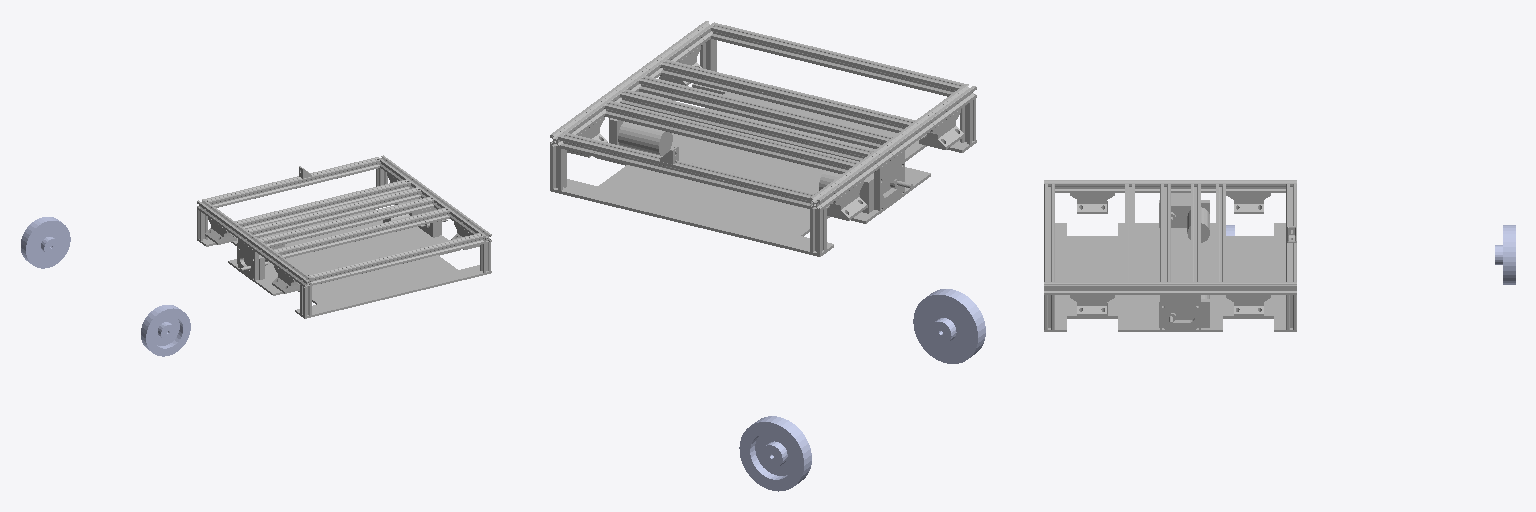
The robot description file, URDF, robot "DiffDrive":
<?xml version="1.0" encoding="utf-8"?>
<!-- This URDF was automatically created by SolidWorks to URDF Exporter! Originally created by [author] ([email redacted]) 
     Commit Version: 1.6.0-4-g7f85cfe  Build Version: 1.6.7995.38578
     For more information, please see http://wiki.ros.org/sw_urdf_exporter -->
<robot
  name="DiffDrive">
  <link
    name="base_link">
    <inertial>
      <origin
        xyz="-0.00843797932248264 7.91524717263514E-05 0.0510944704707574"
        rpy="0 0 0" />
      <mass
        value="4.20115624935193" />
      <inertia
        ixx="0.0441950216113175"
        ixy="-6.1273841754346E-08"
        ixz="1.5363609769836E-06"
        iyy="0.0338853571996096"
        iyz="2.75308042467669E-07"
        izz="0.077237000418039" />
    </inertial>
    <visual>
      <origin
        xyz="0 0 0"
        rpy="0 0 0" />
      <geometry>
        <mesh
          filename="package://DiffDrive/meshes/base_link.STL" />
      </geometry>
      <material
        name="">
        <color
          rgba="0.752941176470588 0.752941176470588 0.752941176470588 1" />
      </material>
    </visual>
    <collision>
      <origin
        xyz="0 0 0"
        rpy="0 0 0" />
      <geometry>
        <mesh
          filename="package://DiffDrive/meshes/base_link.STL" />
      </geometry>
    </collision>
  </link>
  <link
    name="Wheel_left">
    <inertial>
      <origin
        xyz="0 0.0257257525083612 -2.77555756156289E-17"
        rpy="0 0 0" />
      <mass
        value="0.240470068076377" />
      <inertia
        ixx="0.000245137261047142"
        ixy="5.12745004835681E-20"
        ixz="0"
        iyy="0.000452624182450971"
        iyz="-5.57841424911612E-20"
        izz="0.000245137261047142" />
    </inertial>
    <visual>
      <origin
        xyz="0 0 0"
        rpy="0 0 0" />
      <geometry>
        <mesh
          filename="package://DiffDrive/meshes/Wheel_left.STL" />
      </geometry>
      <material
        name="">
        <color
          rgba="0.792156862745098 0.819607843137255 0.933333333333333 1" />
      </material>
    </visual>
    <collision>
      <origin
        xyz="0 0 0"
        rpy="0 0 0" />
      <geometry>
        <mesh
          filename="package://DiffDrive/meshes/Wheel_left.STL" />
      </geometry>
    </collision>
  </link>
  <joint
    name="Joint_left"
    type="continuous">
    <origin
      xyz="-0.000999999999839296 -0.249999999999933 0.0305000000006919"
      rpy="0 0.774914173734372 3.14159265358979" />
    <parent
      link="base_link" />
    <child
      link="Wheel_left" />
    <axis
      xyz="0 1 0" />
  </joint>
  <link
    name="Wheel_right">
    <inertial>
      <origin
        xyz="5.55111512312578E-17 0.0257257525083612 5.55111512312578E-17"
        rpy="0 0 0" />
      <mass
        value="0.240470068076377" />
      <inertia
        ixx="0.000245137261047143"
        ixy="4.26861241081053E-21"
        ixz="-6.7762635780344E-21"
        iyy="0.000452624182450972"
        iyz="1.59972478988236E-20"
        izz="0.000245137261047143" />
    </inertial>
    <visual>
      <origin
        xyz="0 0 0"
        rpy="0 0 0" />
      <geometry>
        <mesh
          filename="package://DiffDrive/meshes/Wheel_right.STL" />
      </geometry>
      <material
        name="">
        <color
          rgba="0.792156862745098 0.819607843137255 0.933333333333333 1" />
      </material>
    </visual>
    <collision>
      <origin
        xyz="0 0 0"
        rpy="0 0 0" />
      <geometry>
        <mesh
          filename="package://DiffDrive/meshes/Wheel_right.STL" />
      </geometry>
    </collision>
  </link>
  <joint
    name="Joint_right"
    type="continuous">
    <origin
      xyz="-0.000999999999862333 0.250000000000088 0.0305000000006919"
      rpy="3.14159265358979 -0.53712555837446 3.14159265358979" />
    <parent
      link="base_link" />
    <child
      link="Wheel_right" />
    <axis
      xyz="0 1 0" />
  </joint>
</robot>

--- What the picture shows (computed from the rendered views, not written in the file) ---
The picture shows the robot from 3 angles, left to right: view 1: azimuth 30°, elevation 25°; view 2: azimuth 150°, elevation 25°; view 3: azimuth 270°, elevation 25°; orthographic projection.
Robot: DiffDrive — 3 links, 2 joints (2 continuous); root link base_link; default pose: every joint at zero.
Visible links, largest first — view 1: base_link, Wheel_left, Wheel_right; view 2: base_link, Wheel_left, Wheel_right; view 3: base_link, Wheel_right.
Link boxes in pixels (bbox=[...]): base_link: bbox=[197, 155, 491, 318]; Wheel_left: bbox=[141, 305, 190, 356]; Wheel_right: bbox=[21, 217, 70, 268]; base_link: bbox=[550, 21, 976, 256]; Wheel_left: bbox=[913, 289, 985, 363]; Wheel_right: bbox=[739, 416, 811, 491]; base_link: bbox=[1044, 180, 1296, 331]; Wheel_right: bbox=[1495, 225, 1515, 284].
Bounding box of the posed robot: 0.7458 × 0.9343 × 0.3244 m (x, y, z).
Meshes: 3 distinct files referenced, 3 mesh visuals loaded (3 binary STL).